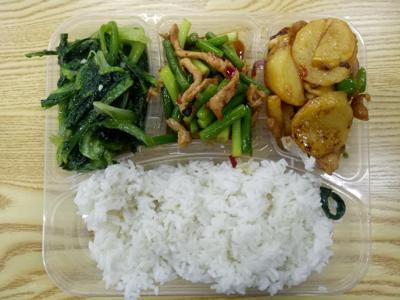rice: (78, 162, 340, 286)
st: (159, 20, 259, 162)
ymc: (49, 20, 153, 158)
